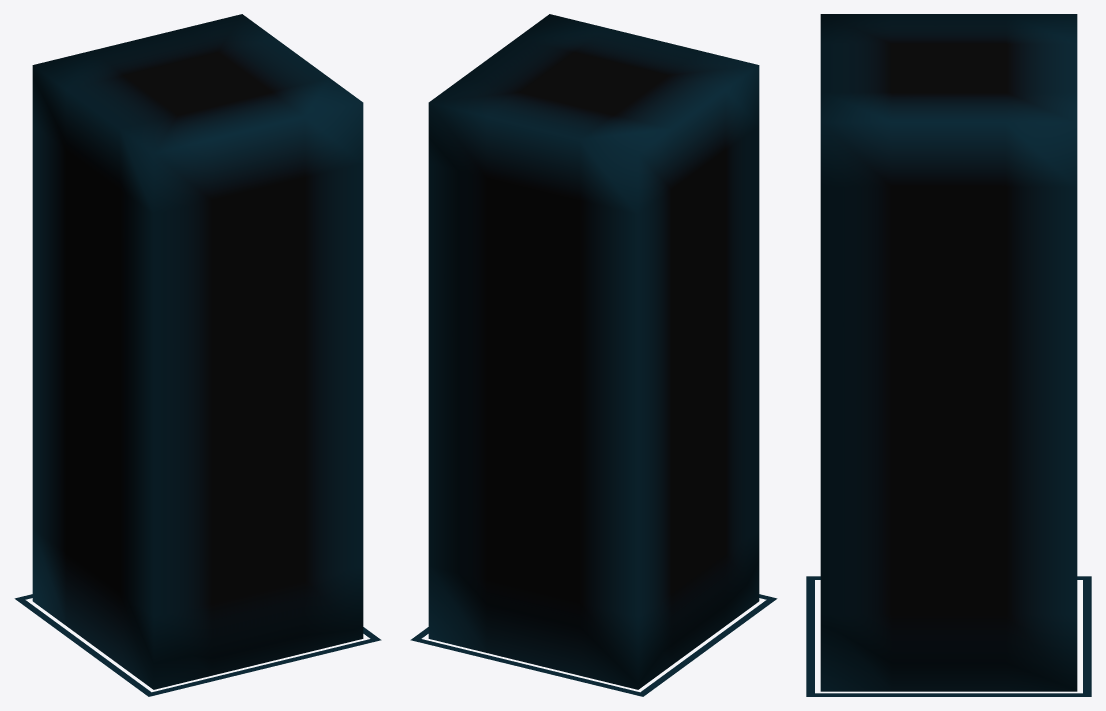
Rendered from cover.glb.
The picture shows the model from 3 angles, left to right: view 1: azimuth 30°, elevation 25°; view 2: azimuth 150°, elevation 25°; view 3: azimuth 270°, elevation 25°; orthographic projection. The views are drawn at different scales.
Visible parts, largest first — view 1: pillar_block, pillar_base; view 2: pillar_block, pillar_base; view 3: pillar_block, pillar_base.
Part boxes in pixels (x1,y1,x2,y2): pillar_block: (32,14,363,689); pillar_base: (14,594,381,696); pillar_block: (428,14,759,689); pillar_base: (410,594,777,696); pillar_block: (820,14,1077,691); pillar_base: (806,576,1091,696).
Bounding box in the file's own units: 1 × 2.2 × 1.
